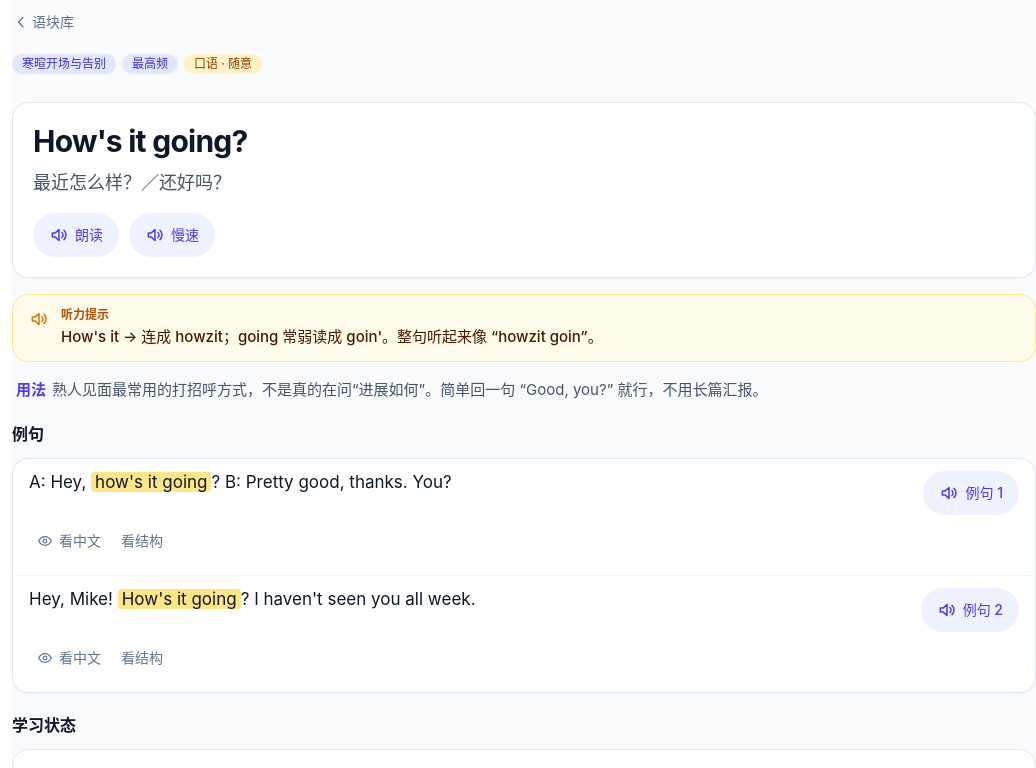
Test: ChunkDetailPage › highlights the chunk in each example and toggles the Chinese
Check: the text "how's it going" is shown, box [91, 472, 212, 492]
Click the button "看中文" below "A: Hey,".
click(69, 541)  # box [29, 519, 109, 563]
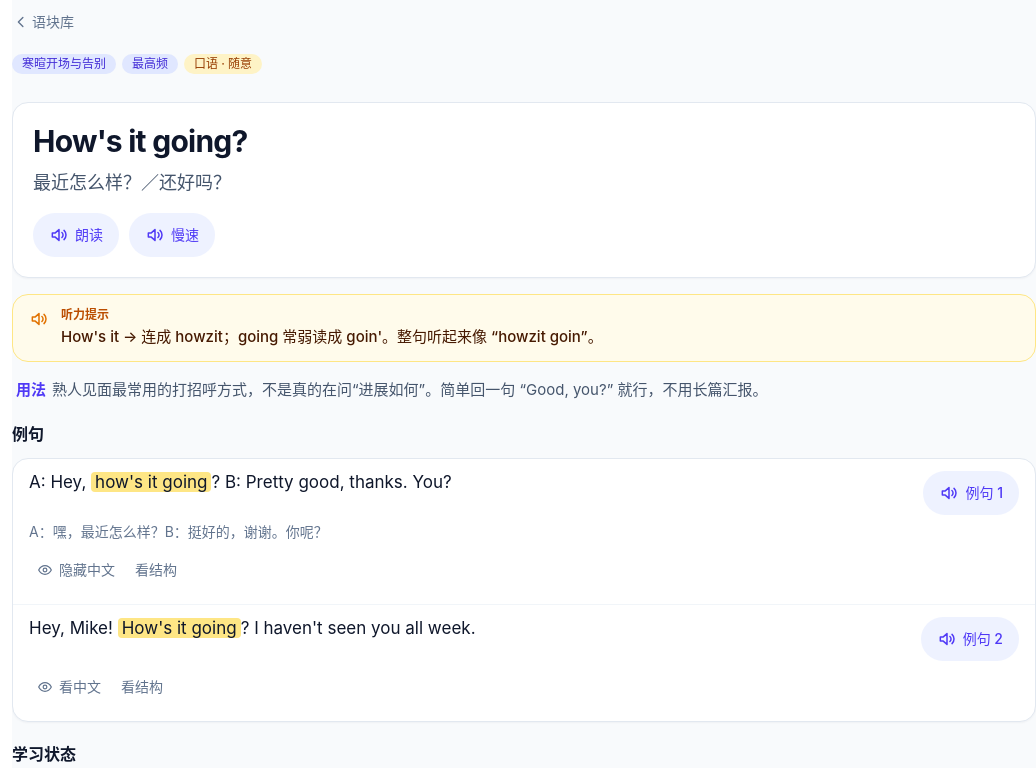
Click the button "隐藏中文".
click(76, 570)  # box [29, 548, 123, 592]
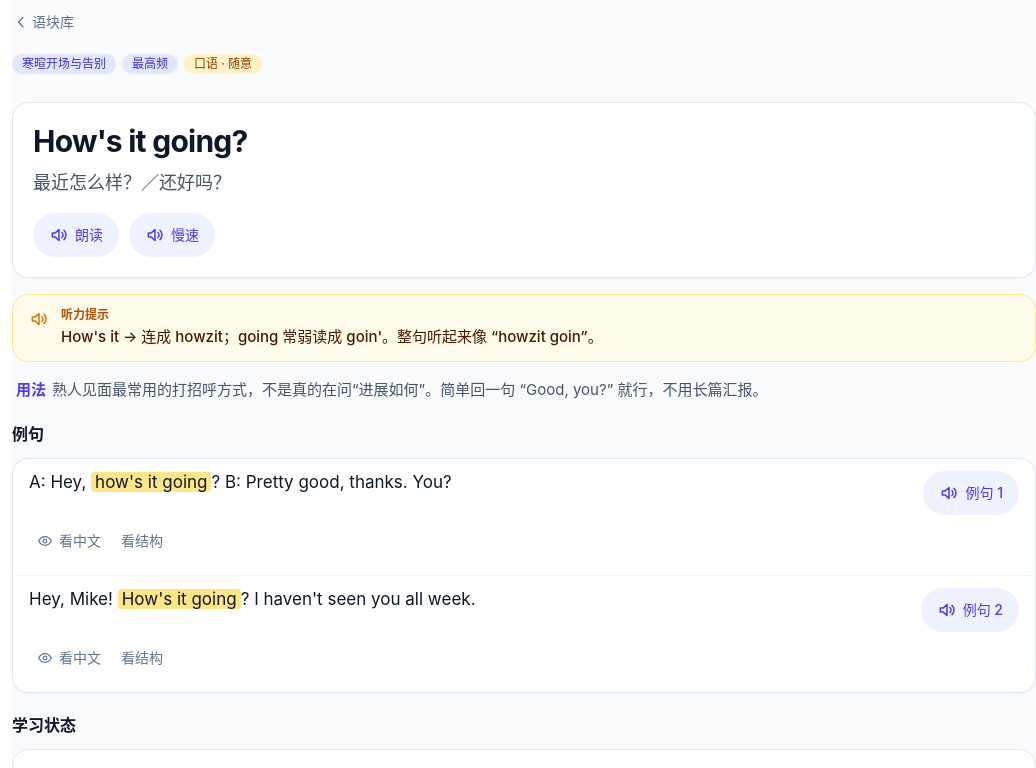
Check: the text with test id "example-zh-0" is gone
